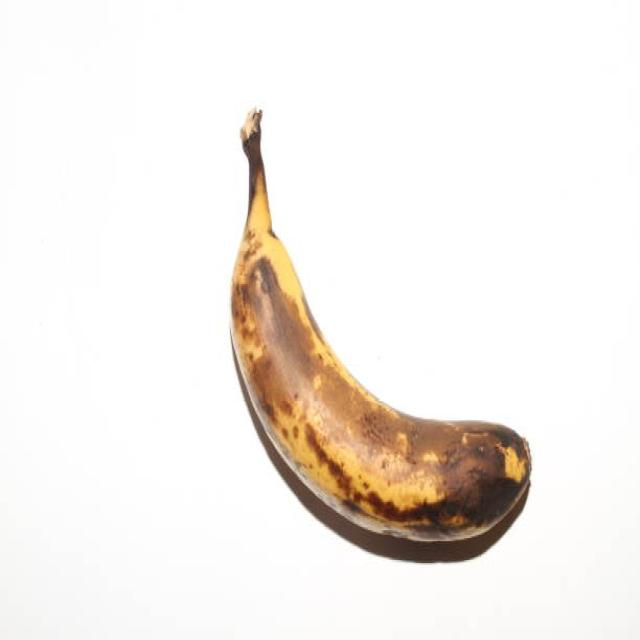overripe: (224, 98, 534, 556)
